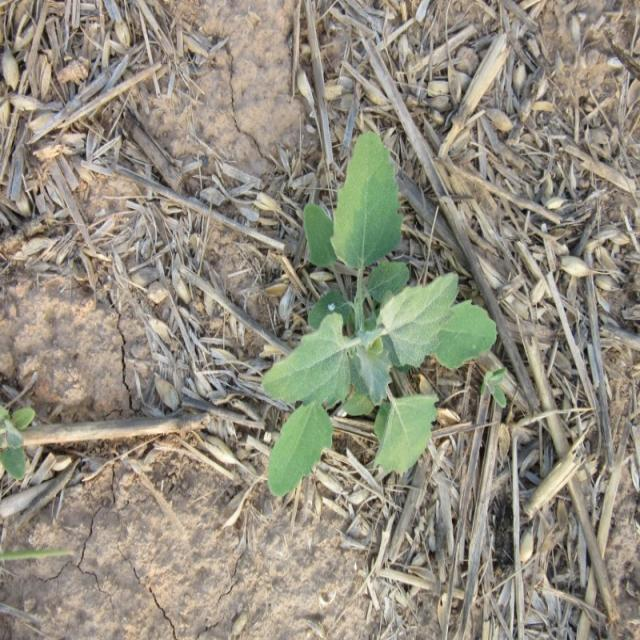ca: (264, 132, 499, 492)
